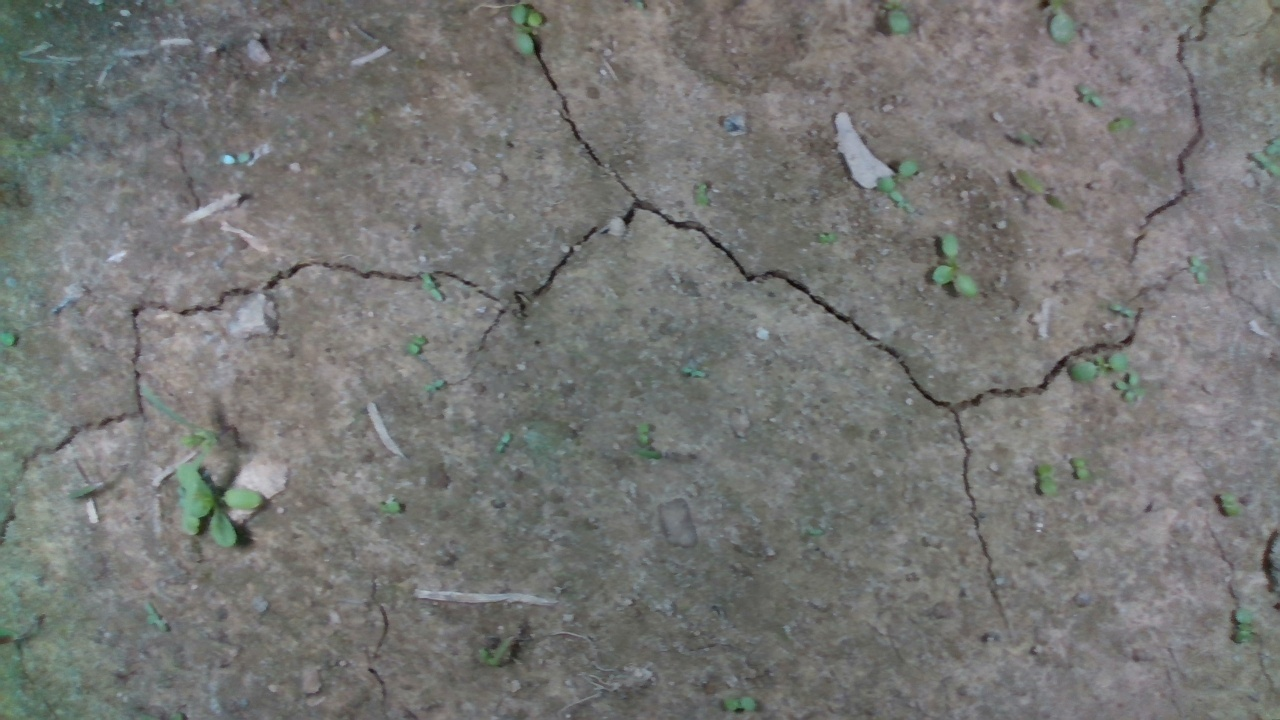weed: (931, 232, 979, 299), (876, 158, 931, 208), (1011, 167, 1067, 212), (1066, 352, 1129, 382), (1114, 373, 1156, 411), (1181, 251, 1216, 295), (411, 266, 451, 303), (1231, 608, 1261, 653), (368, 497, 414, 522), (1074, 78, 1109, 106), (1031, 462, 1056, 496), (1209, 491, 1239, 518), (813, 220, 846, 244), (420, 375, 451, 400), (684, 180, 713, 204), (492, 426, 516, 455), (1073, 457, 1092, 490), (400, 333, 432, 349)
